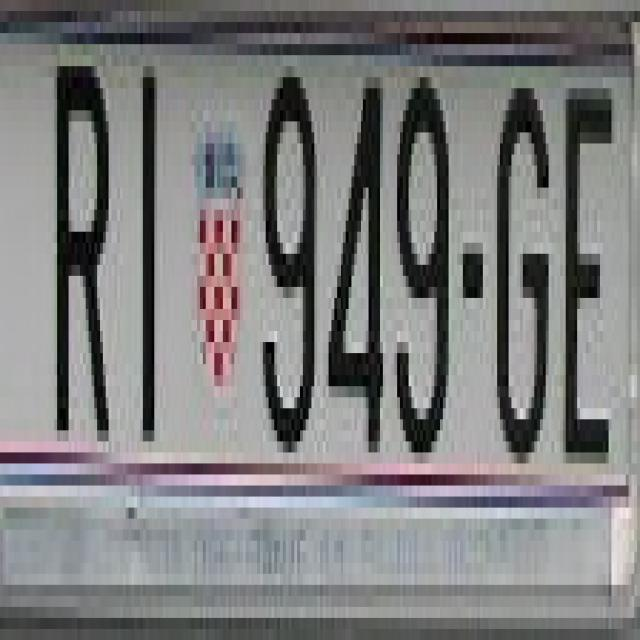4: (320, 44, 383, 464)
9: (388, 55, 448, 464), (260, 55, 317, 452)
E: (560, 66, 617, 464)
G: (494, 78, 546, 452)
